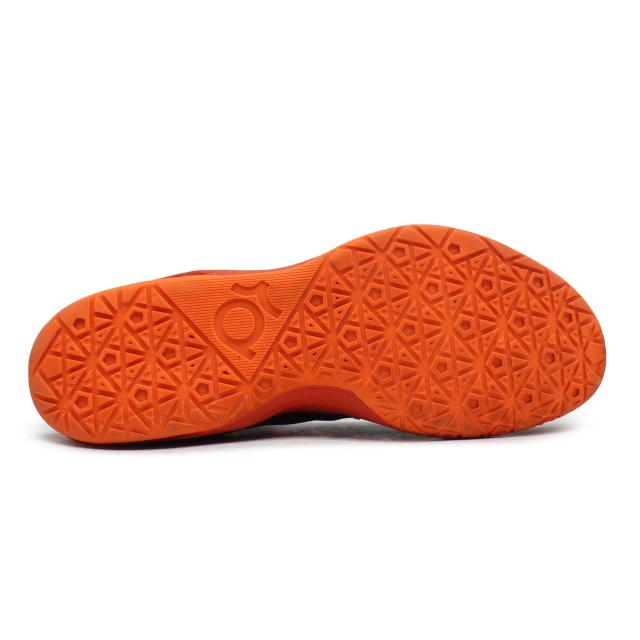outersole: (29, 225, 605, 448)
